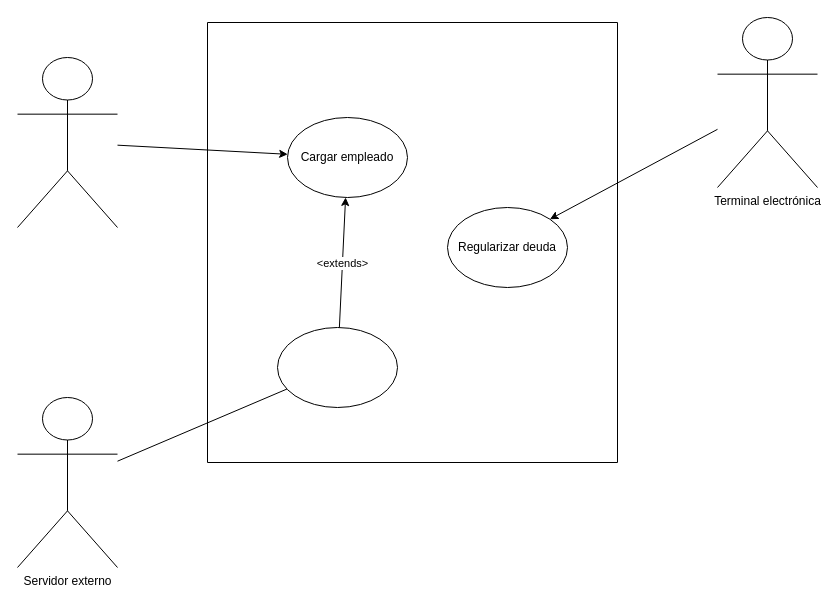
This 838x606 diagram has some shape labels left out. Each missing label, with the centre of its shape:
Secretaria: the point at 67,142
Verificar morosidad: the point at 337,367
